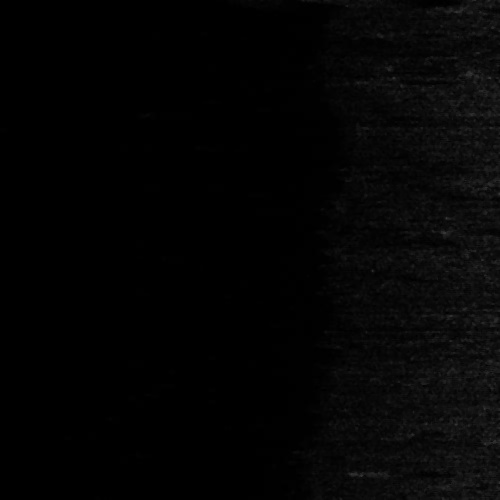object: (448, 66, 489, 75), (355, 469, 418, 474), (491, 436, 500, 443)
shadow: (387, 469, 469, 474), (469, 66, 500, 75)
